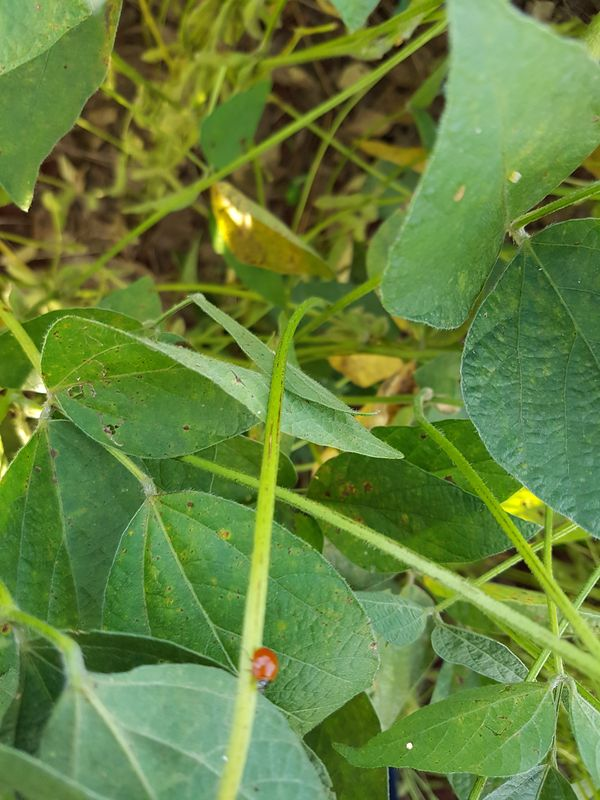Coccinellidae: (232, 641, 291, 700)
